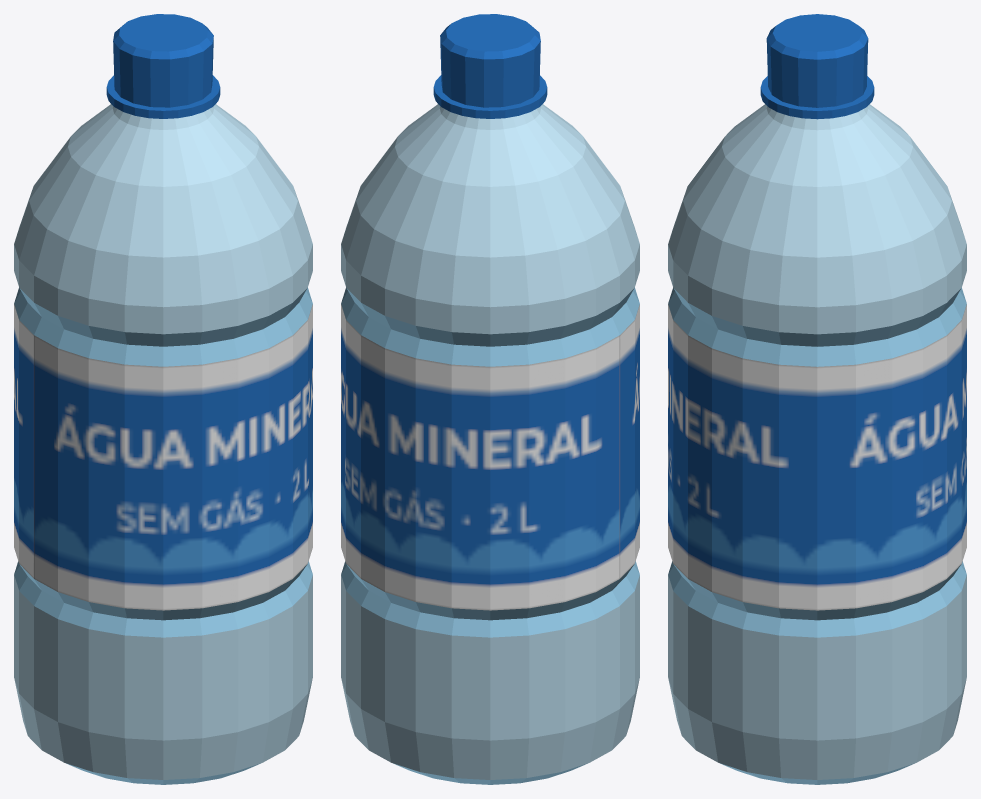
File: Item_Agua.fbx
3 views of the same model, side by side, from view 1: azimuth 30°, elevation 25°; view 2: azimuth 150°, elevation 25°; view 3: azimuth 270°, elevation 25° (orthographic).
Visible parts, largest first — view 1: Item_Agua; view 2: Item_Agua; view 3: Item_Agua.
Part boxes in pixels (left/top/right/bottom): Item_Agua: left=14, top=14, right=312, bottom=784; Item_Agua: left=341, top=14, right=639, bottom=784; Item_Agua: left=668, top=14, right=966, bottom=784.
Size of the model in its own units: 0.1 by 0.26 by 0.1.
Materials: 1 (1 with a texture image).
